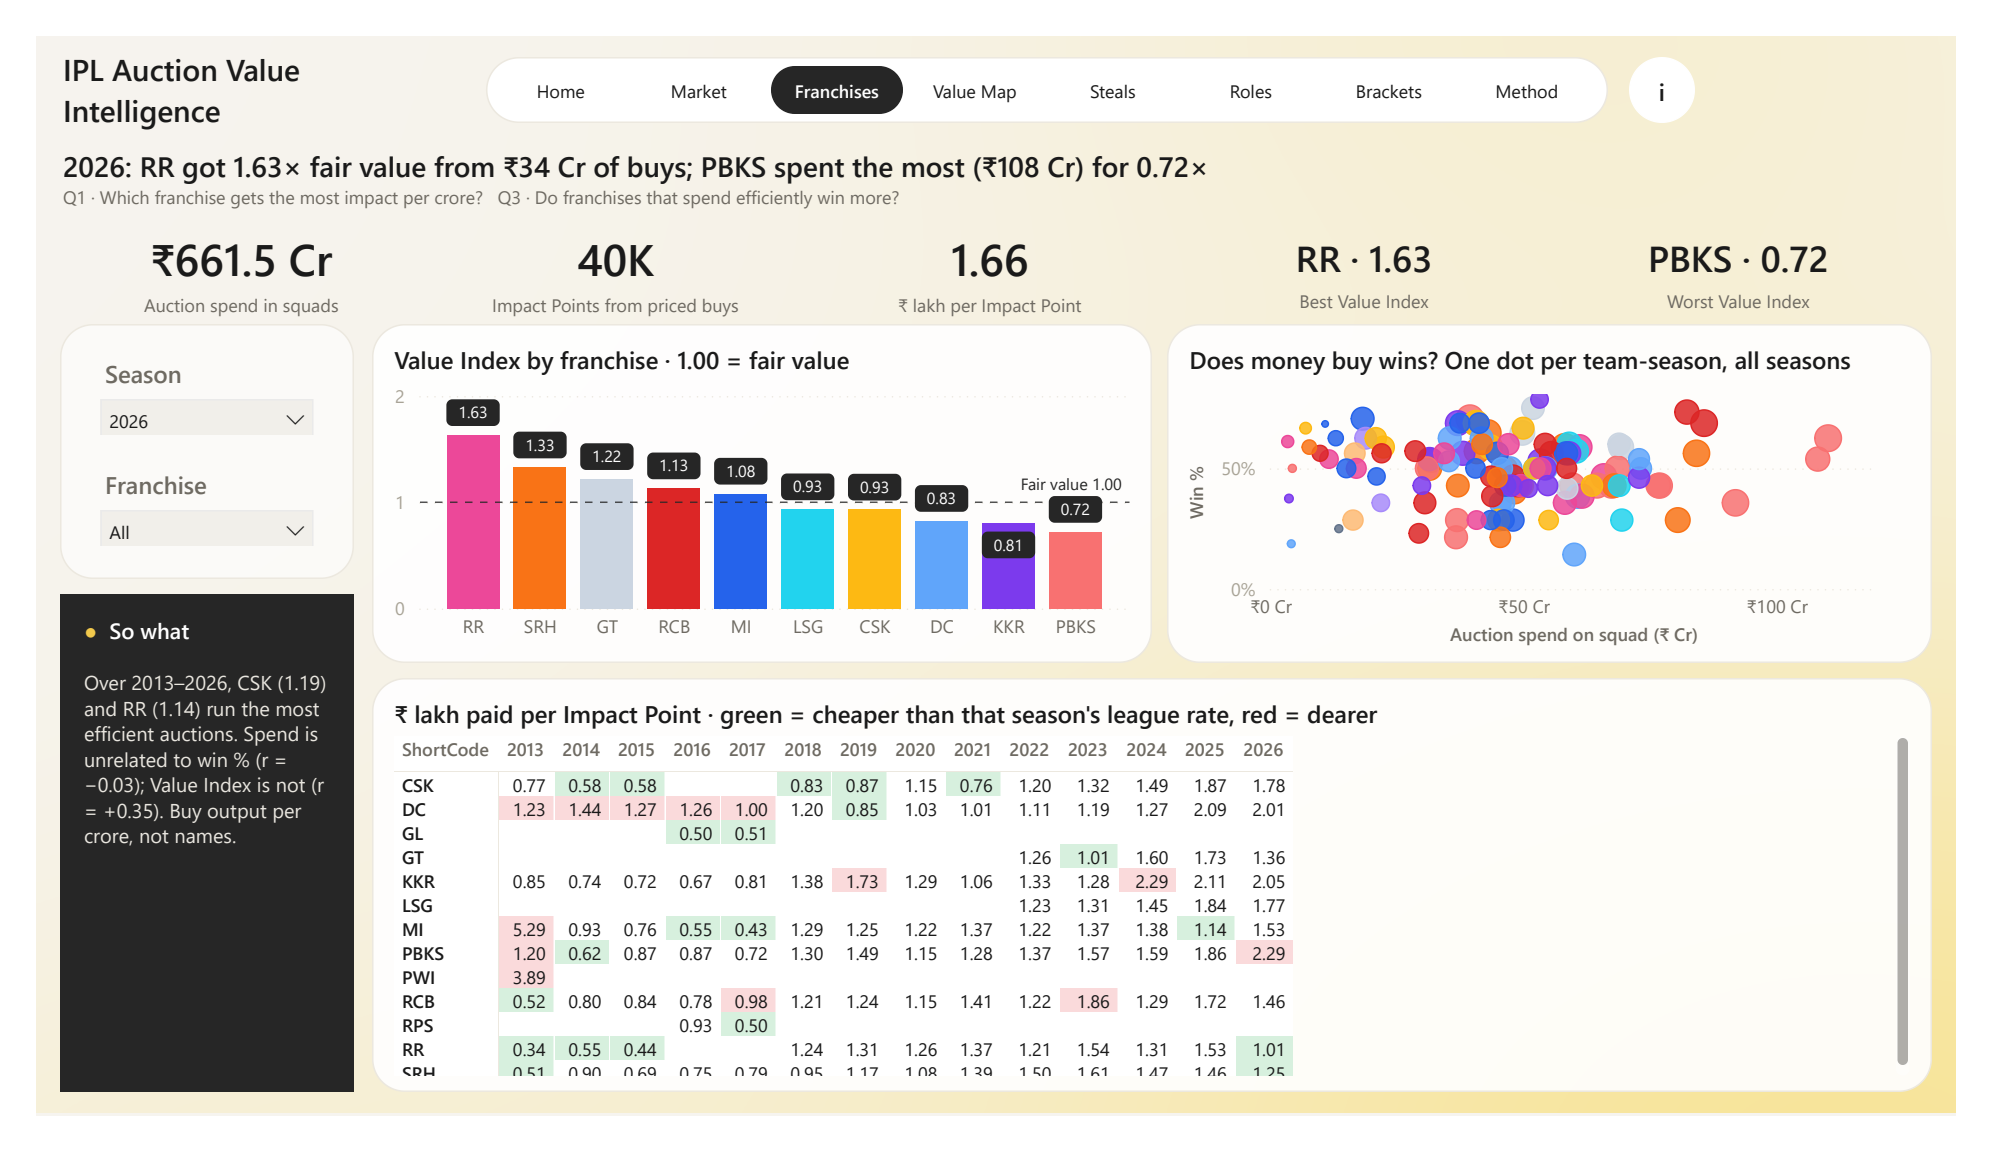

The dashboard page shown, as its layout file describes it:
{"tool":"powerbi","page":{"name":"2 Franchise Efficiency","canvas":[1280,720],"ordinal":2},"visuals":[{"type":"textbox","box":[16,8,270,66],"z":1000},{"type":"textbox","box":[300,14,748,44],"z":2000},{"type":"actionButton","title":"Home","box":[306,20,88,32],"z":3000},{"type":"actionButton","title":"Market","box":[398,20,88,32],"z":4000},{"type":"actionButton","title":"Franchises","box":[490,20,88,32],"z":5000},{"type":"actionButton","title":"Value Map","box":[582,20,88,32],"z":6000},{"type":"actionButton","title":"Steals","box":[674,20,88,32],"z":7000},{"type":"actionButton","title":"Roles","box":[766,20,88,32],"z":8000},{"type":"actionButton","title":"Brackets","box":[858,20,88,32],"z":9000},{"type":"actionButton","title":"Method","box":[950,20,88,32],"z":10000},{"type":"actionButton","title":"i","box":[1062,14,44,44],"z":11000},{"type":"textbox","box":[16,74,1248,50],"z":12000},{"type":"card","fields":{"Values":["_Measures.Spend Cr"]},"box":[16,126,241.6,62],"z":13000},{"type":"card","fields":{"Values":["_Measures.Priced Impact"]},"box":[265.6,126,241.6,62],"z":14000},{"type":"card","fields":{"Values":["_Measures.Lakh per Point"]},"box":[515.2,126,241.6,62],"z":15000},{"type":"card","fields":{"Values":["_Measures.Best Team Label"]},"box":[764.8,126,241.6,62],"z":16000},{"type":"card","fields":{"Values":["_Measures.Worst Team Label"]},"box":[1014.4,126,241.6,62],"z":17000},{"type":"textbox","box":[16,192,196,170],"z":18000},{"type":"slicer","fields":{"Values":["DimSeason.Season"]},"box":[24,202,180,64],"z":19000},{"type":"slicer","fields":{"Values":["DimTeam.TeamName"]},"box":[24,276,180,64],"z":20000},{"type":"textbox","box":[16,372,196,332],"z":21000},{"type":"clusteredColumnChart","title":"Value Index by franchise · 1.00 = fair value","fields":{"Category":["DimTeam.ShortCode"],"Y":["_Measures.Value Index"]},"box":[224,192,520,226],"z":22000},{"type":"scatterChart","title":"Does money buy wins? One dot per team-season, all seasons","fields":{"Category":["DimTeamSeason.TeamSeasonLabel"],"Size":["_Measures.Priced Impact"],"X":["_Measures.Spend Cr"],"Y":["_Measures.Win %"]},"box":[754,192,510,226],"z":23000},{"type":"pivotTable","title":"₹ lakh paid per Impact Point · green = cheaper than that season''s league rate, red = dearer","fields":{"Columns":["DimSeason.Season"],"Rows":["DimTeam.ShortCode"],"Values":["_Measures.Lakh per Point"]},"box":[224,428,1040,276],"z":24000}]}

Visuals, with their boxes in screenshot pixels (x1, y1, x2, y2), scaled from the page's 1280x720 canvas onto the 1992x1152 screenshot:
textbox: select_region(25, 13, 445, 118)
textbox: select_region(467, 22, 1631, 93)
"Home" actionButton: select_region(476, 32, 613, 83)
"Market" actionButton: select_region(619, 32, 756, 83)
"Franchises" actionButton: select_region(763, 32, 900, 83)
"Value Map" actionButton: select_region(906, 32, 1043, 83)
"Steals" actionButton: select_region(1049, 32, 1186, 83)
"Roles" actionButton: select_region(1192, 32, 1329, 83)
"Brackets" actionButton: select_region(1335, 32, 1472, 83)
"Method" actionButton: select_region(1478, 32, 1615, 83)
"i" actionButton: select_region(1653, 22, 1721, 93)
textbox: select_region(25, 118, 1967, 198)
card - _Measures.Spend Cr: select_region(25, 202, 401, 301)
card - _Measures.Priced Impact: select_region(413, 202, 789, 301)
card - _Measures.Lakh per Point: select_region(802, 202, 1178, 301)
card - _Measures.Best Team Label: select_region(1190, 202, 1566, 301)
card - _Measures.Worst Team Label: select_region(1579, 202, 1955, 301)
textbox: select_region(25, 307, 330, 579)
slicer - DimSeason.Season: select_region(37, 323, 317, 426)
slicer - DimTeam.TeamName: select_region(37, 442, 317, 544)
textbox: select_region(25, 595, 330, 1126)
"Value Index by franchise · 1.00 = fair value" clusteredColumnChart: select_region(349, 307, 1158, 669)
"Does money buy wins? One dot per team-season, all seasons" scatterChart: select_region(1173, 307, 1967, 669)
"₹ lakh paid per Impact Point · green = cheaper than that season''s league rate, red = dearer" pivotTable: select_region(349, 685, 1967, 1126)
